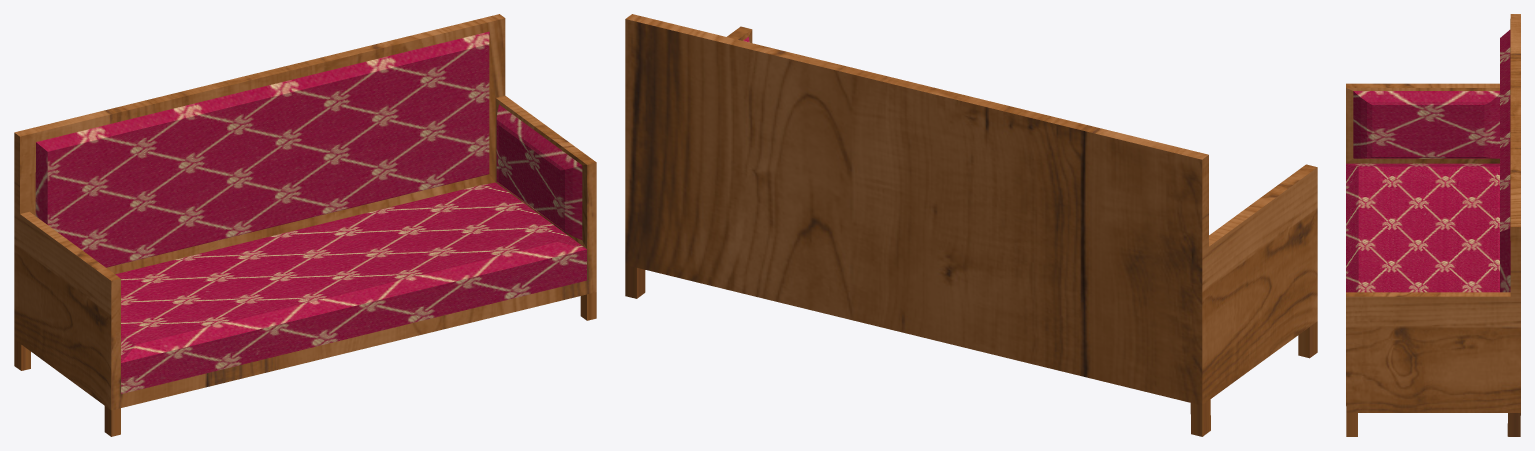
The model's file is couch_SA.fbx.
The picture shows the model from 3 angles, left to right: view 1: azimuth 30°, elevation 25°; view 2: azimuth 150°, elevation 25°; view 3: azimuth 270°, elevation 25°; orthographic projection. The views are drawn at different scales.
Parts seen in each view (by area): view 1: formalCouch; view 2: formalCouch; view 3: formalCouch.
Boxes of the visible parts, box(x1,y1,x2,y2) form: formalCouch: box(14, 14, 596, 436); formalCouch: box(625, 14, 1317, 436); formalCouch: box(1346, 14, 1520, 436).
Size of the model in its own units: 7.24 by 3.32 by 2.51.
2 materials, 2 textured.
